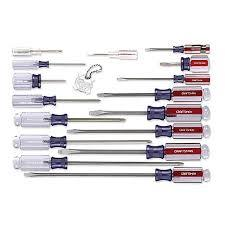screwdriver: (22, 170, 211, 182), (13, 154, 184, 167), (64, 124, 211, 138), (12, 133, 152, 147), (88, 105, 210, 121), (56, 148, 209, 160), (12, 110, 126, 126), (96, 86, 210, 101), (11, 93, 99, 107), (115, 73, 211, 85), (10, 72, 66, 87), (159, 55, 210, 71), (144, 43, 210, 53), (11, 59, 85, 67), (11, 46, 63, 55), (87, 49, 137, 58)
